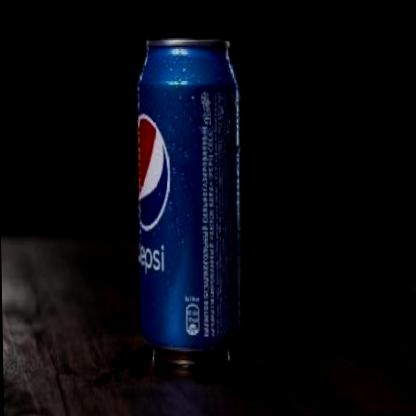alumunium_can: (134, 34, 246, 368)
